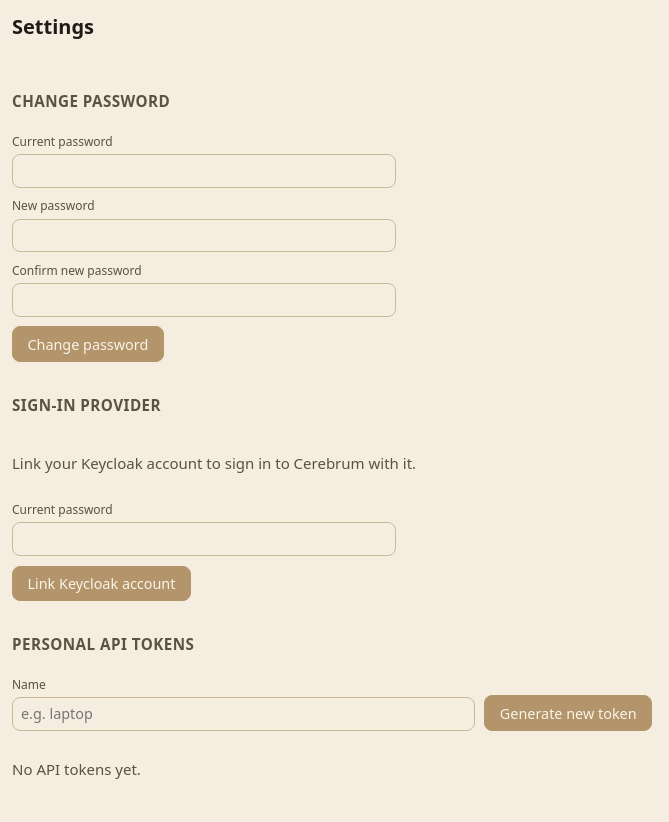
Scenario: SettingsPage sign-in provider section › shows a wrong current password inline
Type "wrong password" into the password field labelled "Current password" below "Link your" at (204, 539), box top-left (12, 522), bottom-right (396, 556)
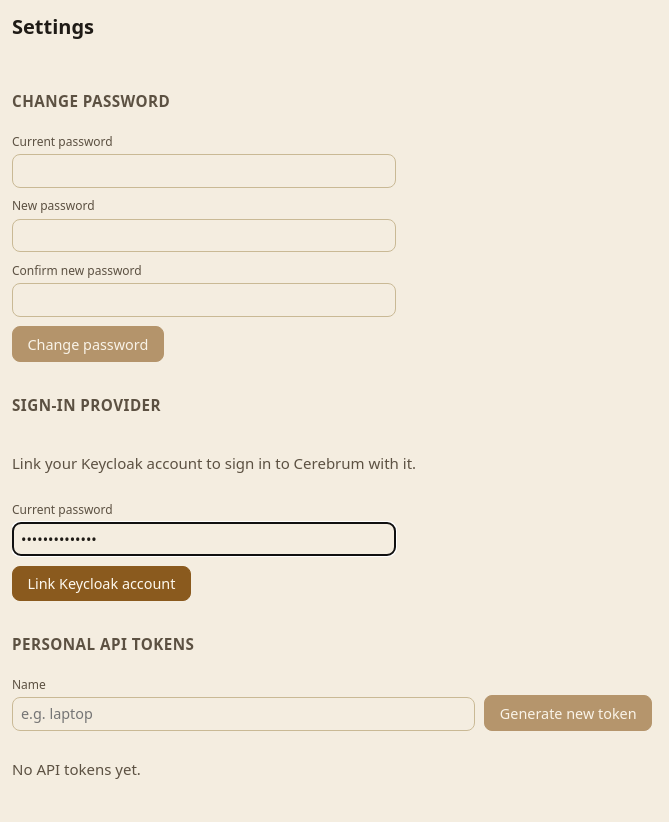
Click the button "Link Keycloak account" at (101, 583), box top-left (12, 566), bottom-right (191, 601)
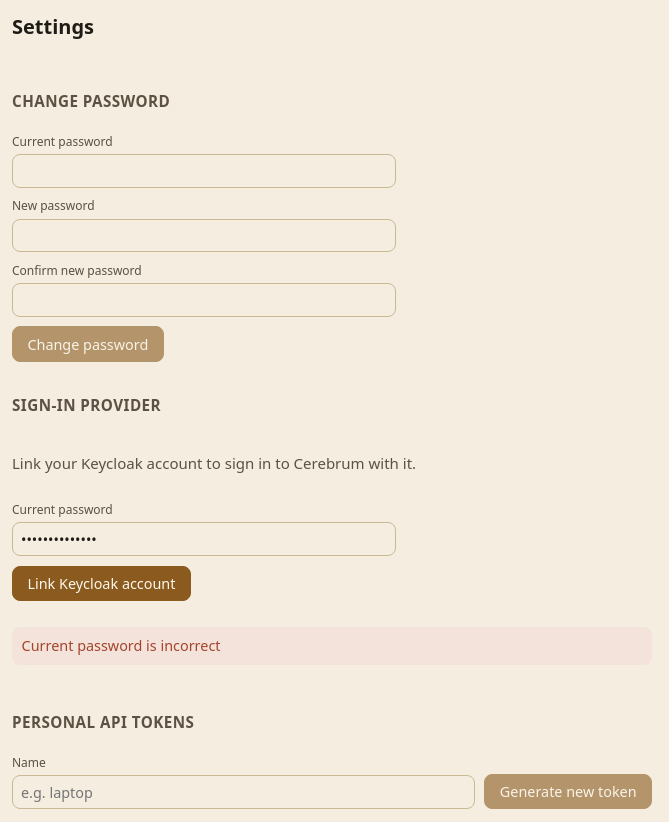
Now the button "Link Keycloak account" is enabled, box top-left (12, 566), bottom-right (191, 601)
Now the message reads "Current password is incorrect", box top-left (22, 636), bottom-right (220, 656)
